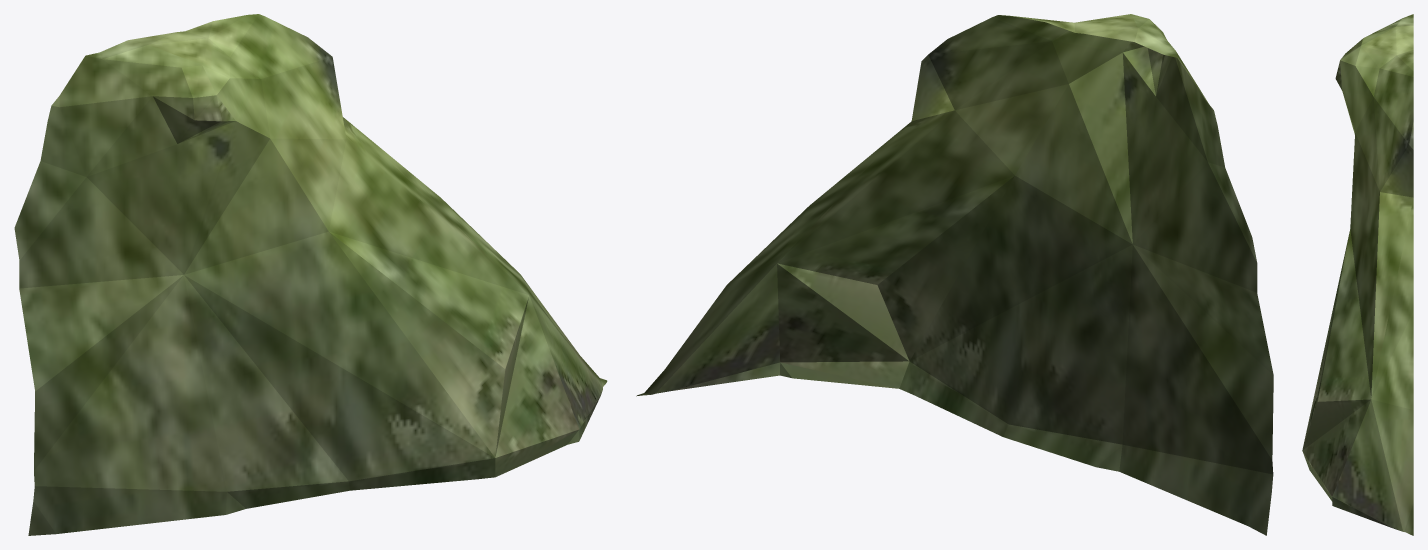
The picture shows the model from 3 angles, left to right: view 1: azimuth 30°, elevation 25°; view 2: azimuth 150°, elevation 25°; view 3: azimuth 270°, elevation 25°; orthographic projection. The views are drawn at different scales.
Bounding box in the file's own units: 2.15 × 1.59 × 0.4732.
1 material, 1 textured.
